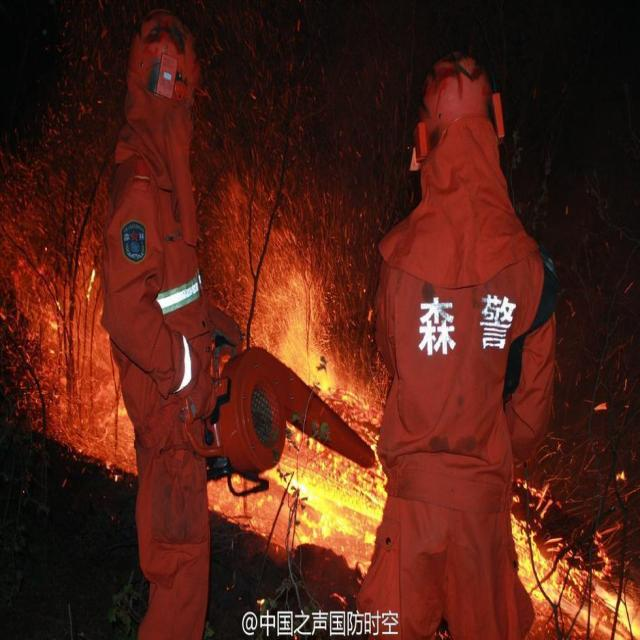fire: (7, 178, 139, 480), (509, 464, 638, 637), (221, 192, 331, 374), (269, 448, 386, 576)
other: (215, 328, 386, 488), (407, 270, 515, 366), (153, 272, 207, 312), (174, 324, 196, 408)
